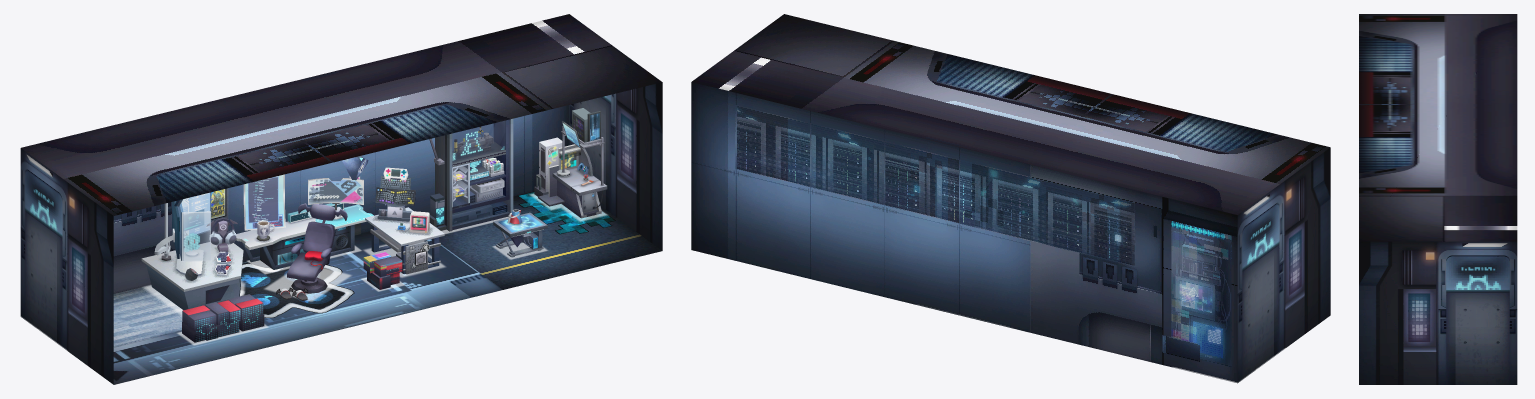
The model's file is closureRoom.glb.
3 views of the same model, side by side, from view 1: azimuth 30°, elevation 25°; view 2: azimuth 150°, elevation 25°; view 3: azimuth 270°, elevation 25° (orthographic). The views are drawn at different scales.
Visible parts, largest first — view 1: ROOM_room, ROOM_floor, furni_closureRoom_computerdesk_01, furni_closureRoom_officedesk_01, furni_closureRoom_cabinet_02, furni_closureRoom_carpet_01, furni_closureRoom_workbench_01, furni_closureRoom_chair_01, furni_closureRoom_equipmentdesk_01, furni_closureRoom_cabinet_01, furni_closureRoom_workbench_02, furni_closureRoom_equipmentdesk_02 (+13 smaller); view 2: ROOM_room, ROOM_LDoor; view 3: ROOM_room, ROOM_RDoor.
Part boxes in pixels (bbox=[...]): ROOM_room: bbox=[20, 14, 662, 384]; ROOM_floor: bbox=[113, 194, 661, 384]; furni_closureRoom_computerdesk_01: bbox=[141, 192, 243, 310]; furni_closureRoom_officedesk_01: bbox=[236, 174, 373, 269]; furni_closureRoom_cabinet_02: bbox=[429, 119, 509, 226]; furni_closureRoom_carpet_01: bbox=[240, 263, 354, 317]; furni_closureRoom_workbench_01: bbox=[534, 137, 607, 218]; furni_closureRoom_chair_01: bbox=[279, 203, 347, 300]; furni_closureRoom_equipmentdesk_01: bbox=[365, 207, 444, 274]; furni_closureRoom_cabinet_01: bbox=[429, 118, 513, 231]; furni_closureRoom_workbench_02: bbox=[536, 108, 604, 213]; furni_closureRoom_equipmentdesk_02: bbox=[370, 167, 440, 271]; ROOM_room: bbox=[691, 14, 1330, 383]; ROOM_LDoor: bbox=[1298, 249, 1316, 338]; ROOM_room: bbox=[1359, 14, 1517, 384]; ROOM_RDoor: bbox=[1382, 319, 1414, 384].
Bounding box in the file's own units: 7.54 × 2.2 × 2.25.
Materials: 7 (7 with a texture image).
